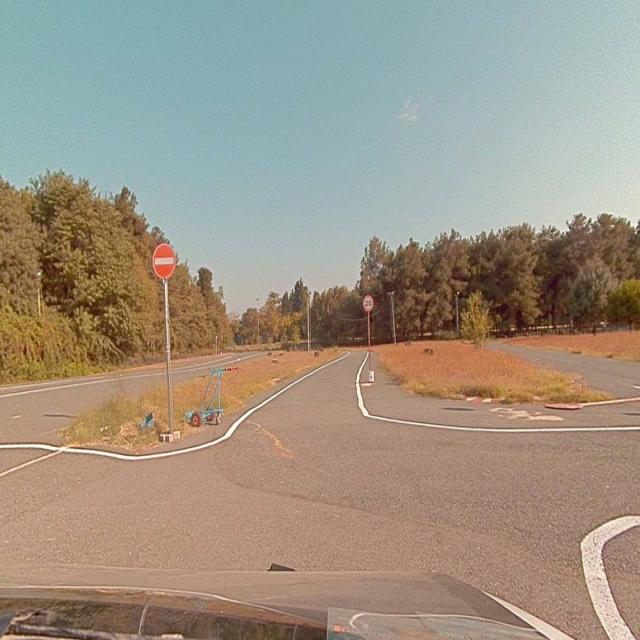20: (363, 294, 373, 310)
girisyok: (154, 244, 176, 278)
